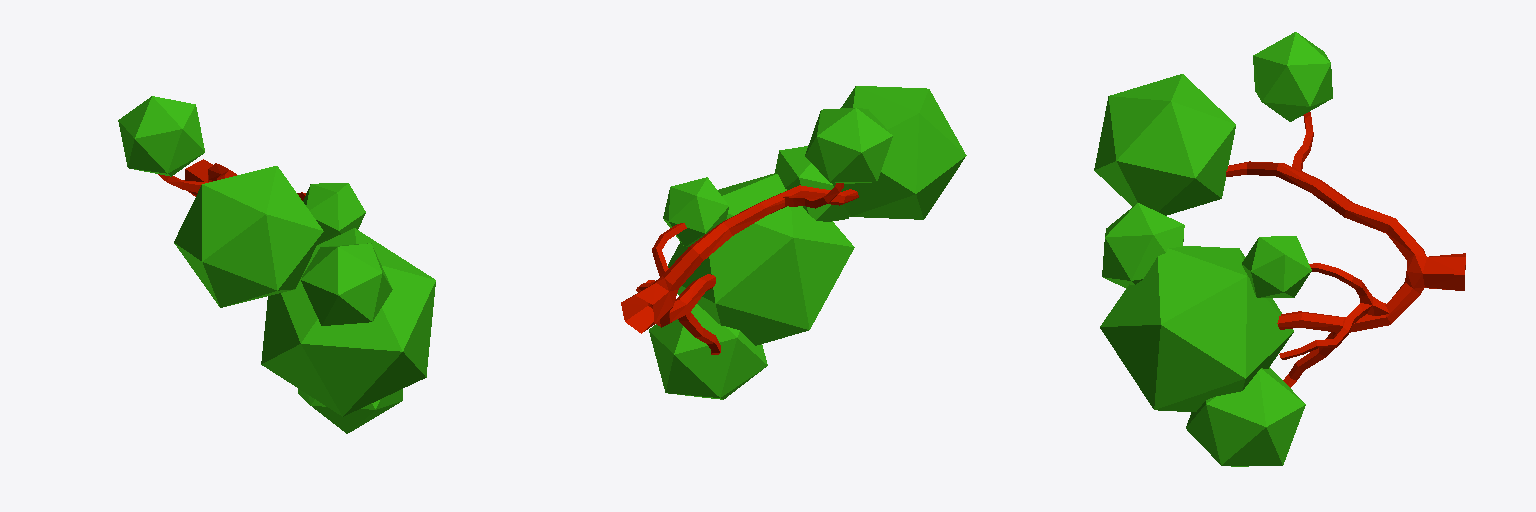
Rendered from tree.obj.
The picture shows the model from 3 angles: view 1: azimuth 30°, elevation 25°; view 2: azimuth 150°, elevation 25°; view 3: azimuth 270°, elevation 25°; orthographic projection.
Parts seen in each view (by area): view 1: Default; view 2: Default; view 3: Default.
Boxes of the visible parts, box(x1,y1,x2,y2) form: Default: box(118, 96, 435, 433); Default: box(621, 86, 966, 399); Default: box(1094, 32, 1465, 466).
Size of the model in its own units: 20.8 by 27.98 by 26.54.